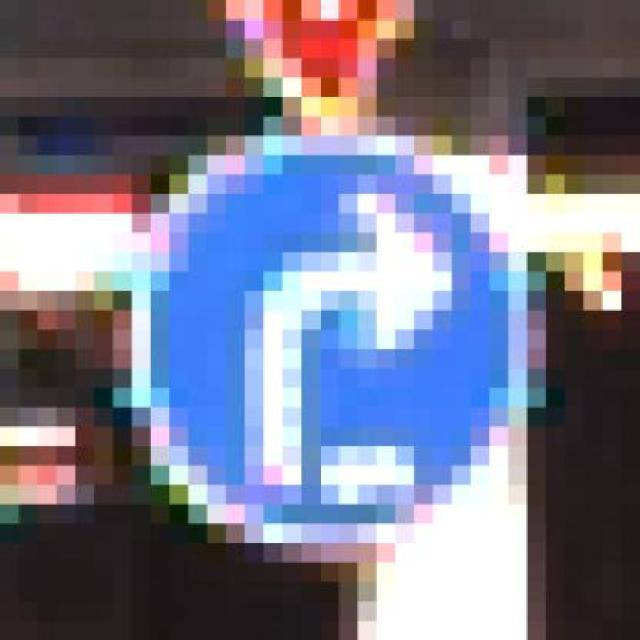Turn right ahead: (94, 116, 546, 562)
